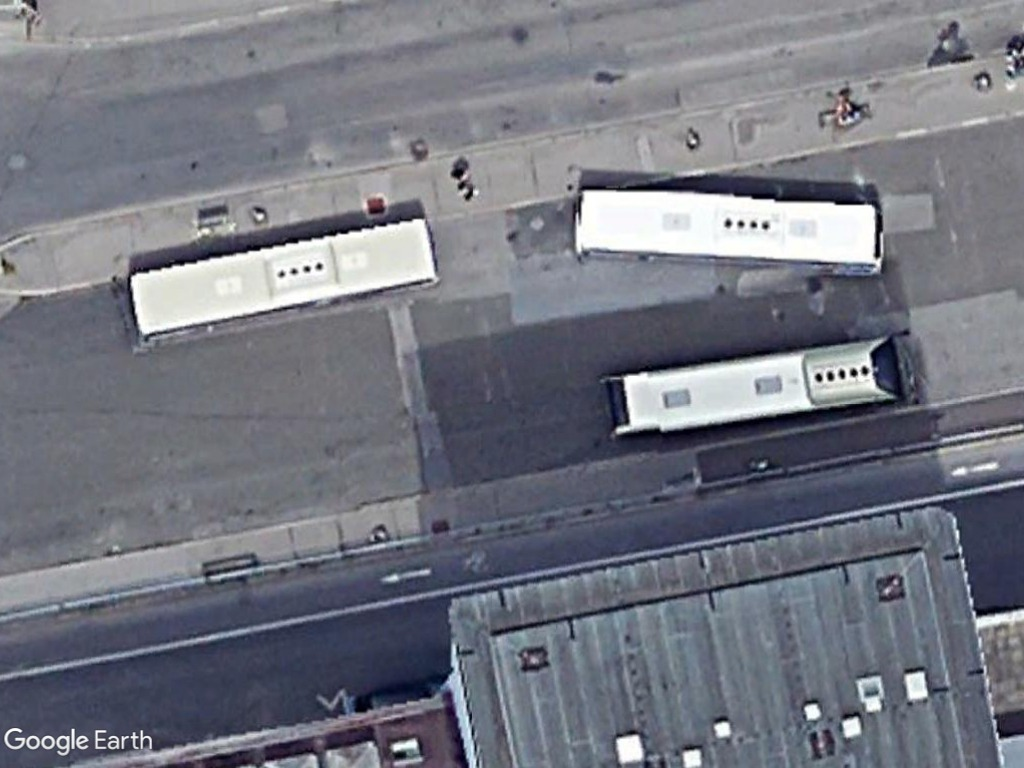bus: (119, 210, 439, 350), (598, 322, 926, 443), (566, 183, 892, 280)
